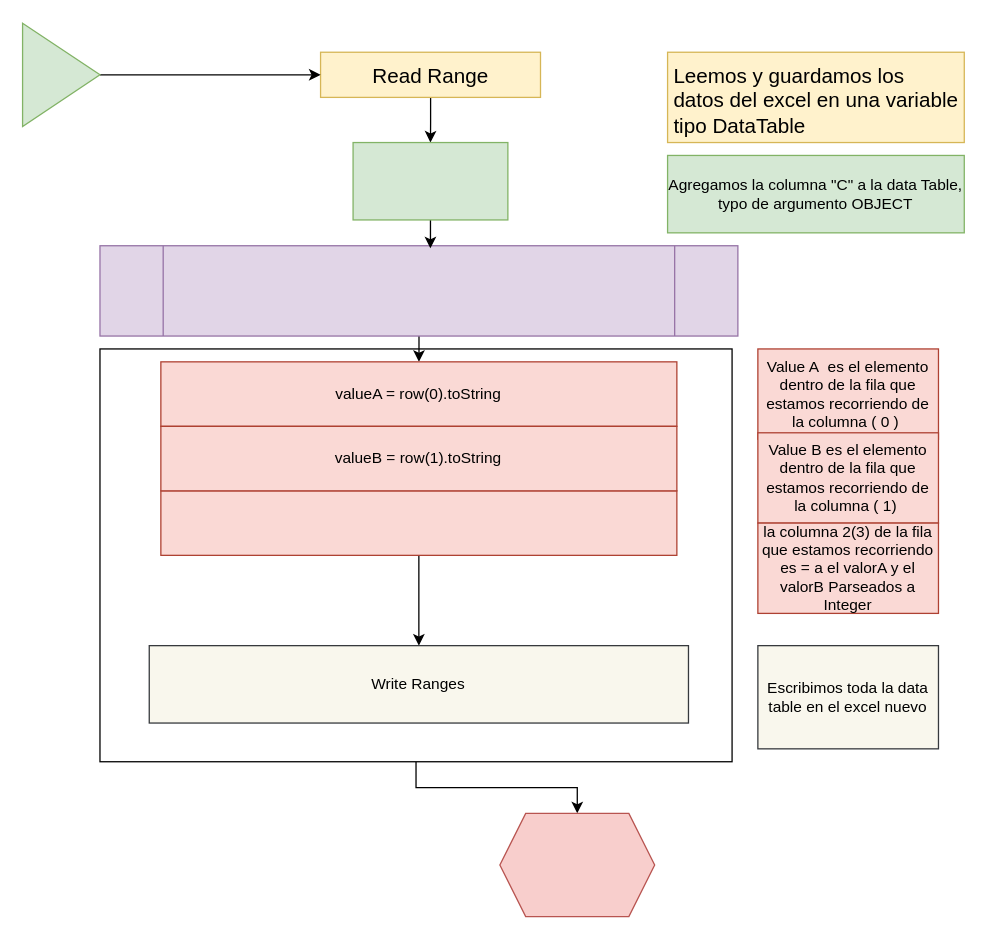
Some shapes in this 987 by 939 pixel diagram are drawn without their labels. Here are the shapes that lost their labels. From the top down, the centre of each, then its label:
At pixel 60 74: "Inicio".
At pixel 430 180: "Add Data Column".
At pixel 418 290: "For Each Row in InputDT".
At pixel 418 522: "row(2) = Integer.Parse(valueA) + Integer.Parse(valueB)".
At pixel 577 864: "End".
